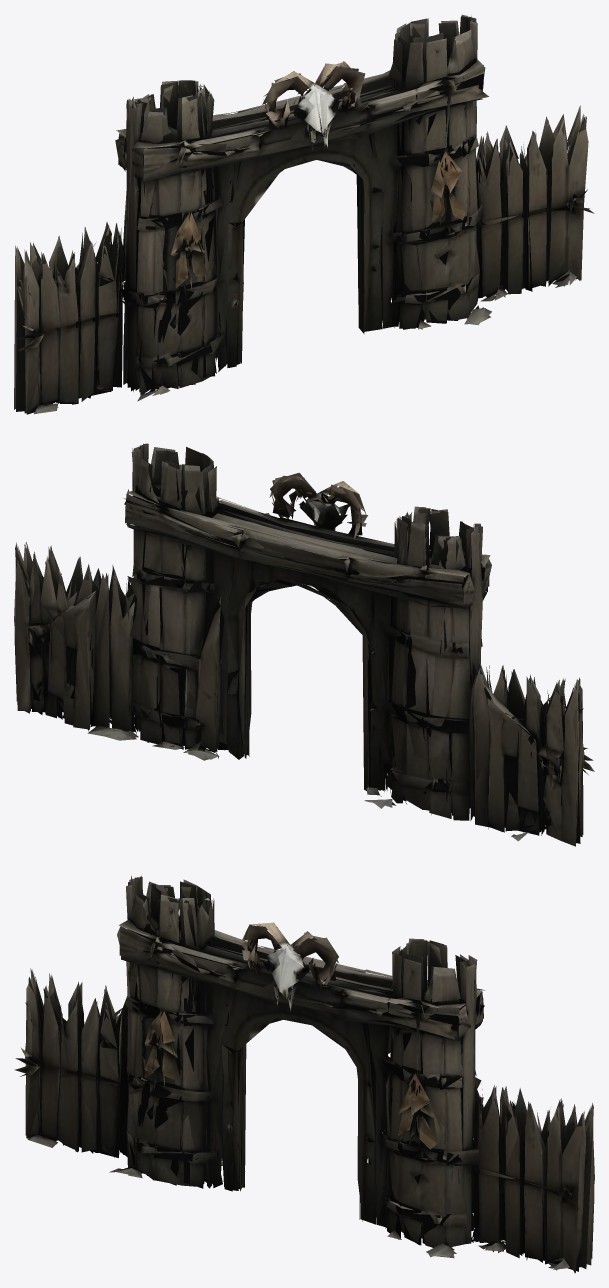
File: goblin_gate.glb
3 renders of one model, top to bottom at view 1: azimuth 30°, elevation 25°; view 2: azimuth 150°, elevation 25°; view 3: azimuth 330°, elevation 25°, orthographic.
Parts seen in each view (by area): view 1: goblin_gate; view 2: goblin_gate; view 3: goblin_gate.
Part boxes in pixels (bbox=[...]): goblin_gate: bbox=[14, 14, 594, 414]; goblin_gate: bbox=[14, 443, 594, 846]; goblin_gate: bbox=[14, 875, 594, 1273].
Bounding box in the file's own units: 7.38 × 3.61 × 1.04.
1 material, 1 textured.
